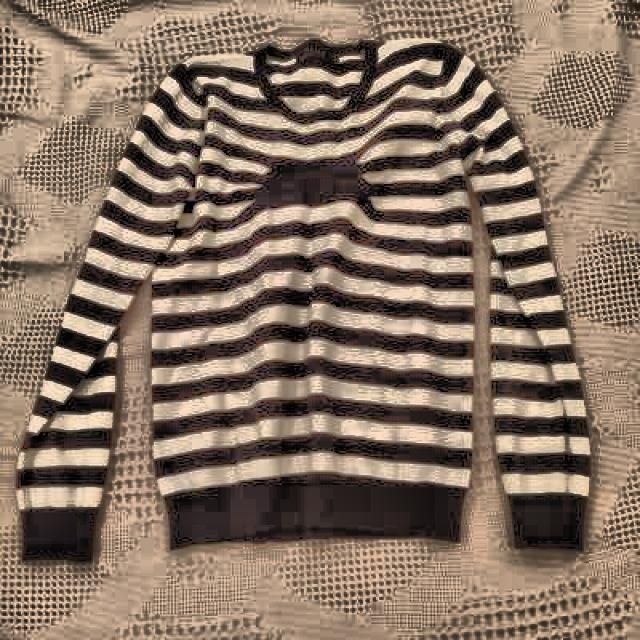clothes: (14, 42, 591, 564)
